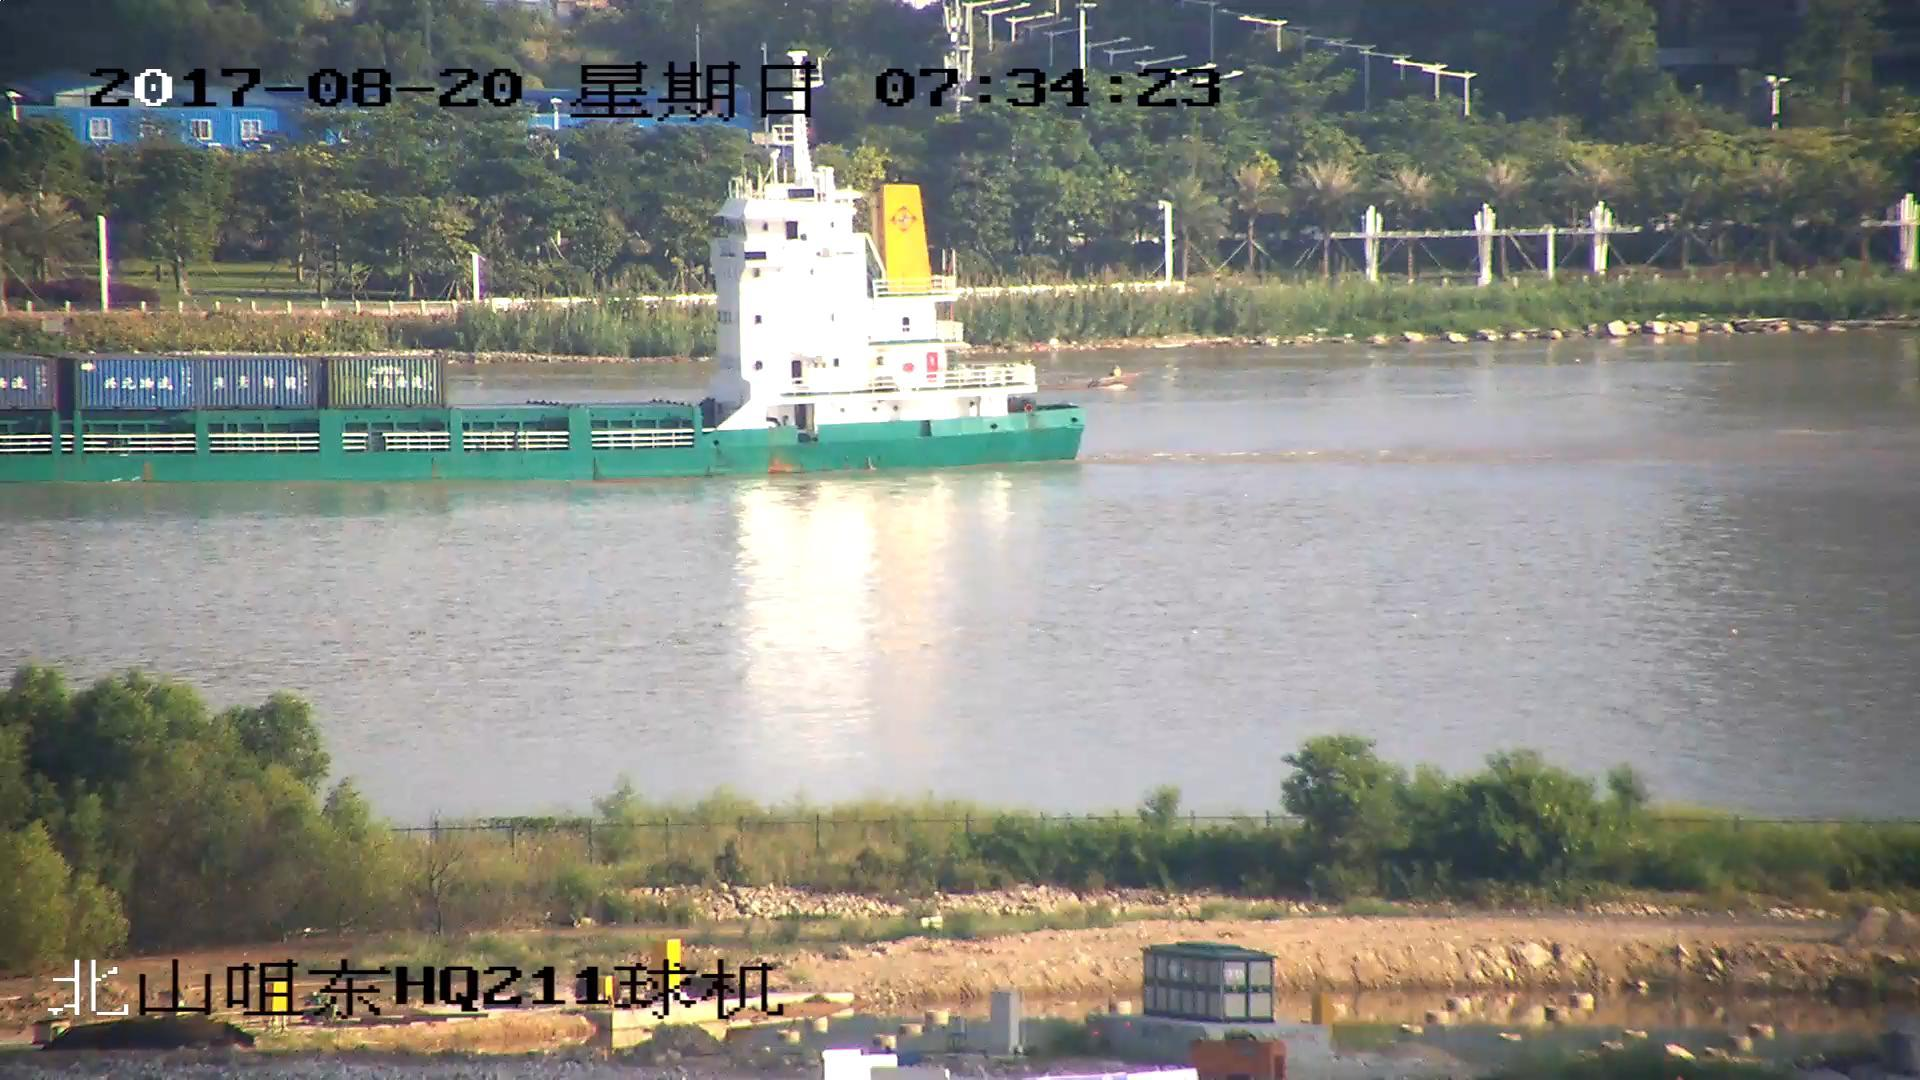Ship: (3, 115, 1083, 483)
